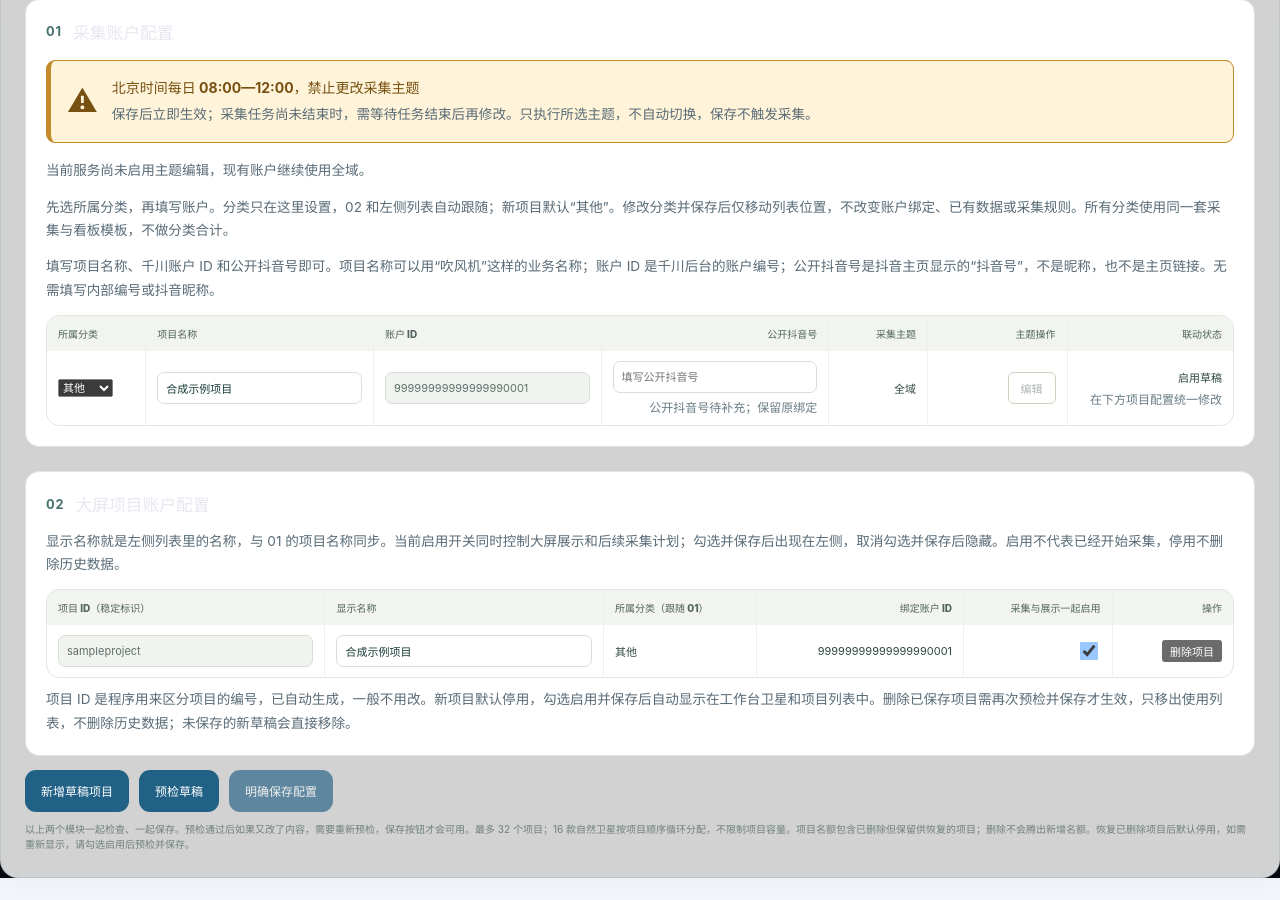
Scenario: minimal configuration panel › presents only project modules and points to collection status for metrics
(page scrolled)
Replace the text in the field named "项目 1 名称" with "联动测试名称": x=464, y=651 [336, 635, 592, 667]
(page scrolled)
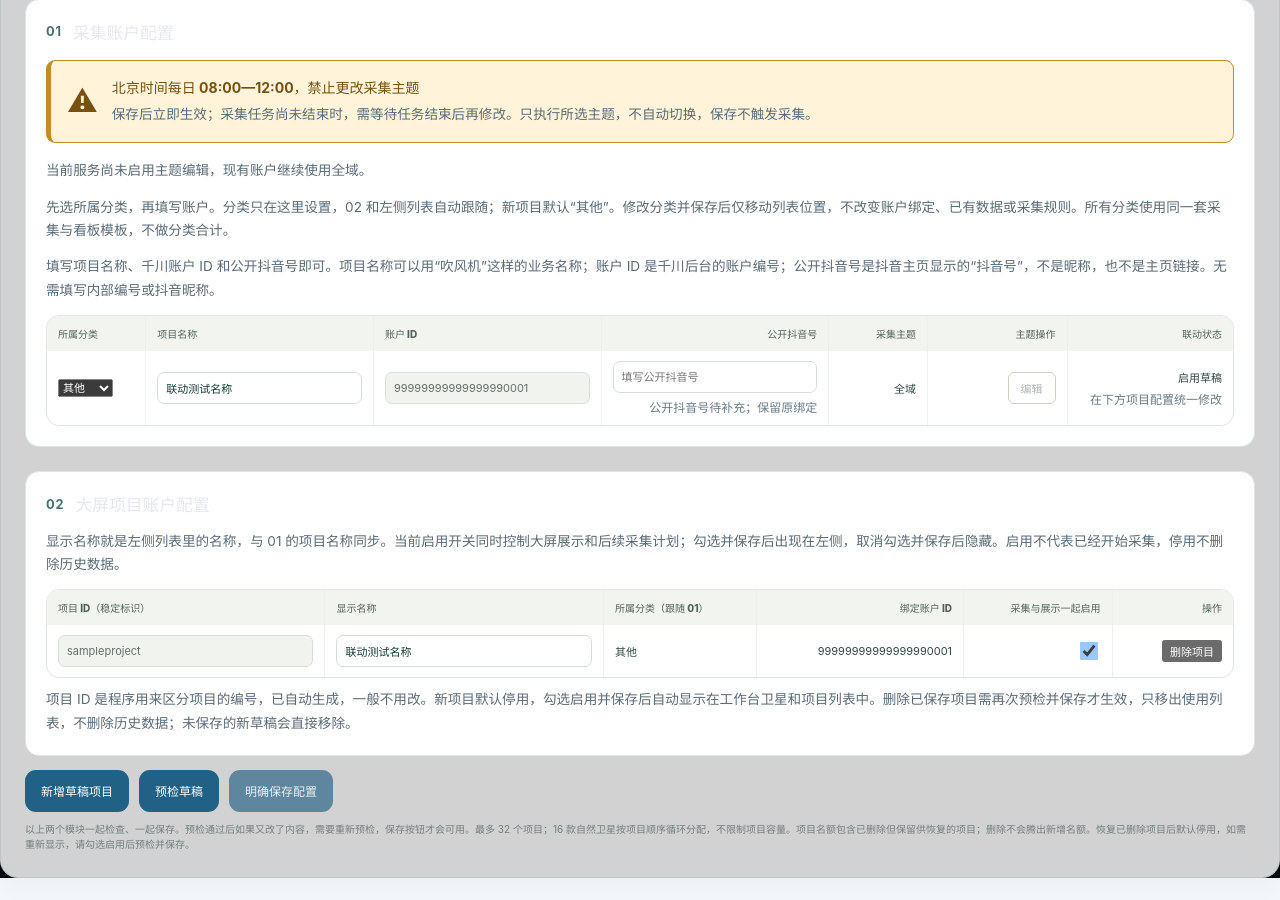
Now the field named "采集项目 1 名称" holds "联动测试名称", box [157, 372, 362, 404]
Click the checkbox named "项目 1 启用": x=1089, y=651 [1080, 642, 1098, 660]
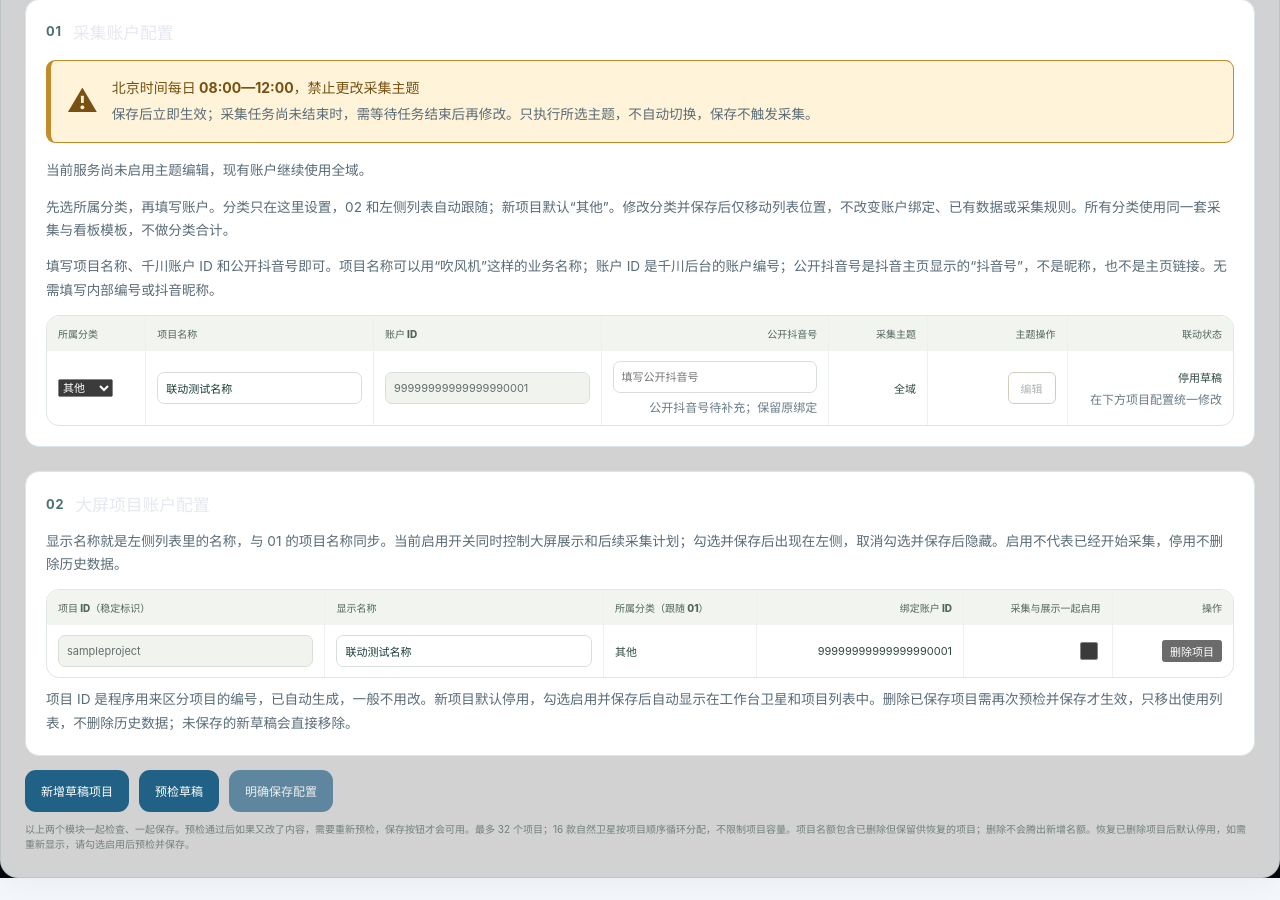
Now the element named "采集账户配置草稿表" shows "停用草稿", box [1178, 371, 1222, 385]
